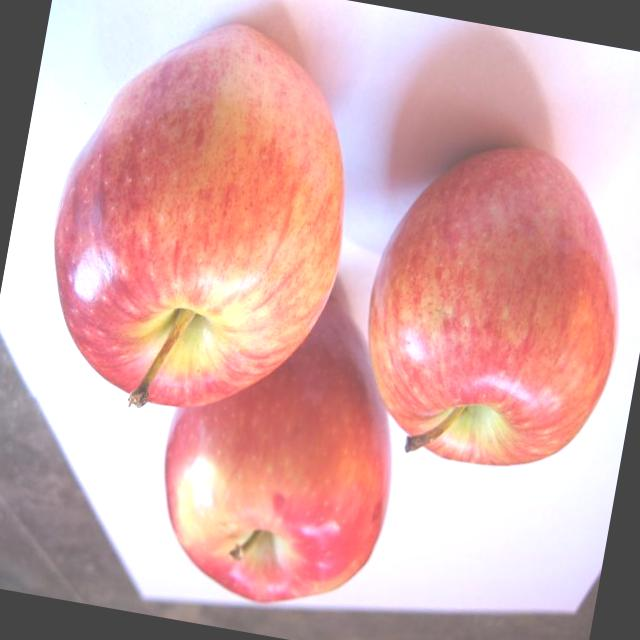Apple: (24, 0, 377, 439), (343, 124, 640, 487), (142, 272, 422, 622)
